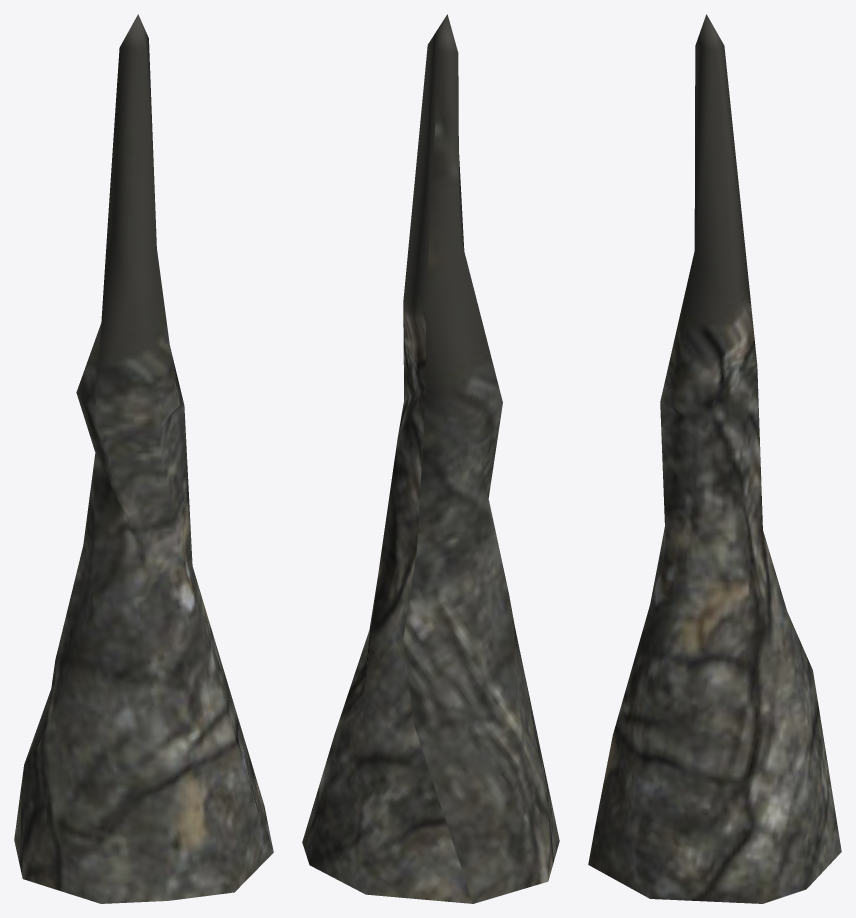
Rendered from Stal8.fbx.
The picture shows the model from 3 angles, left to right: view 1: azimuth 30°, elevation 25°; view 2: azimuth 150°, elevation 25°; view 3: azimuth 270°, elevation 25°; orthographic projection.
Parts seen in each view (by area): view 1: Stal2_polySurface11; view 2: Stal2_polySurface11; view 3: Stal2_polySurface11.
Boxes of the visible parts, x1,y1,x2,y2 form: Stal2_polySurface11: (14, 14, 273, 903); Stal2_polySurface11: (302, 14, 559, 903); Stal2_polySurface11: (588, 14, 841, 903).
Bounding box in the file's own units: 0.8734 × 3.05 × 0.841.
